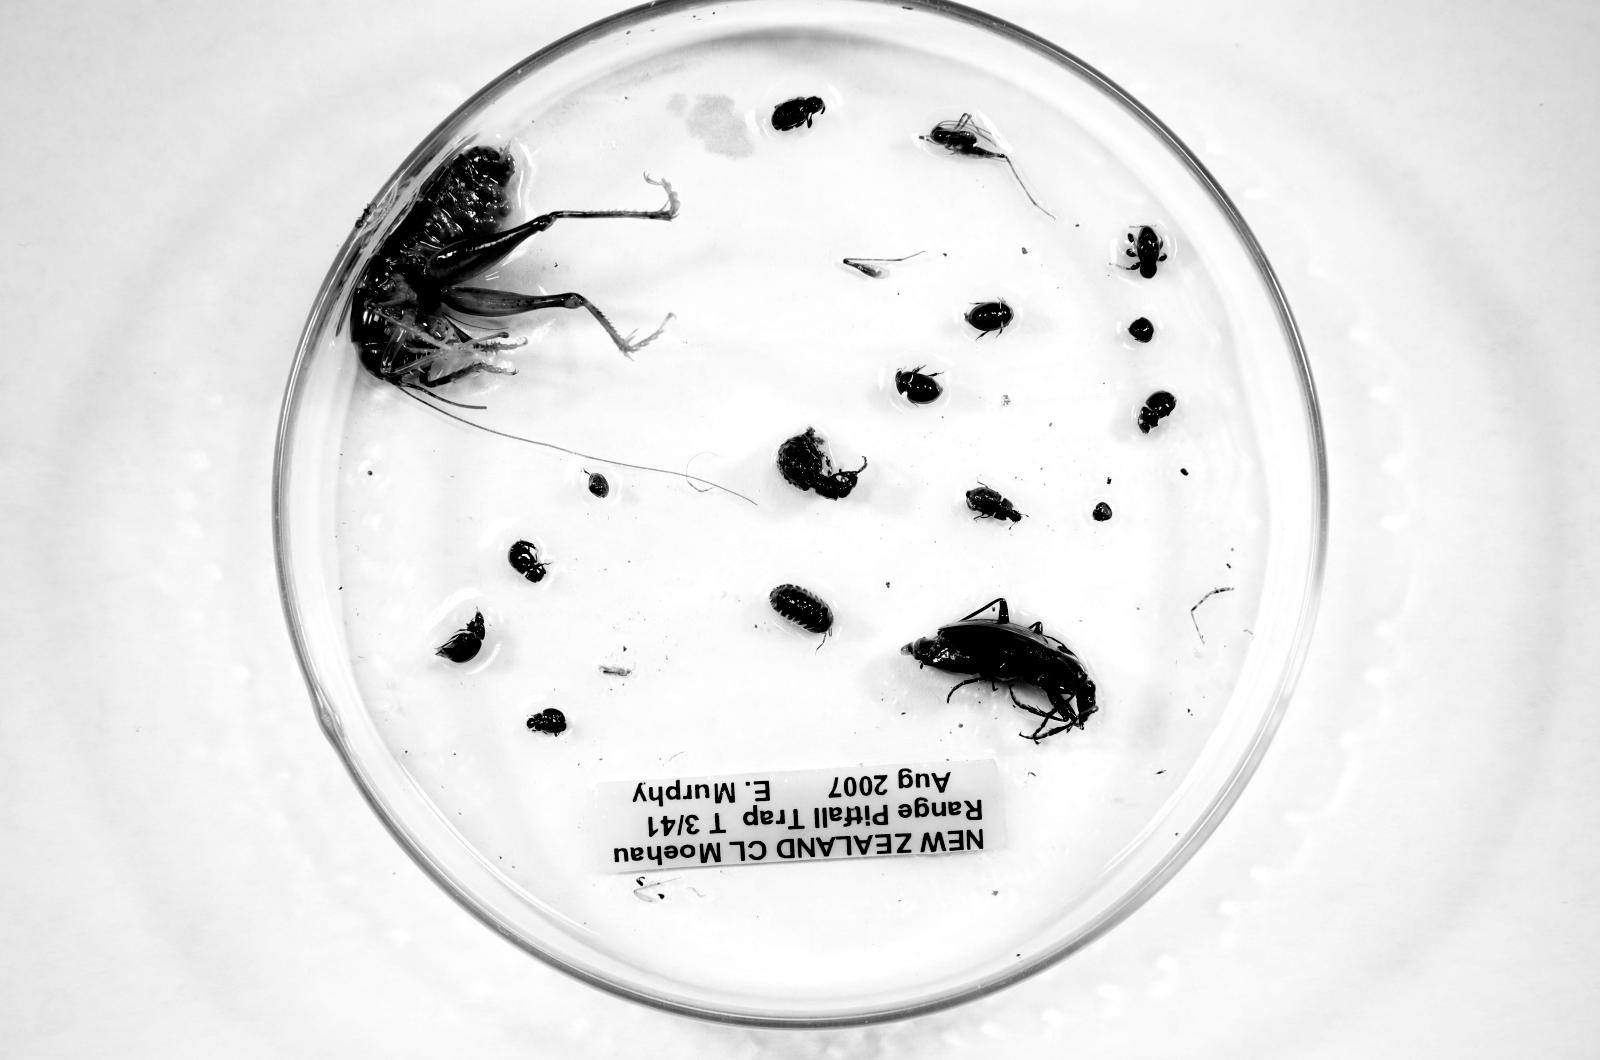carabidae: (903, 598, 1097, 741)
coleoptera: (776, 427, 867, 500), (436, 611, 485, 663), (1125, 226, 1167, 278), (966, 485, 1021, 522), (771, 97, 825, 131), (964, 300, 1013, 336), (895, 368, 943, 404), (1137, 391, 1176, 433), (509, 540, 546, 583), (526, 708, 567, 736)
isopoda: (770, 584, 833, 633)
orthoptera: (353, 146, 679, 390), (919, 112, 1010, 162)
